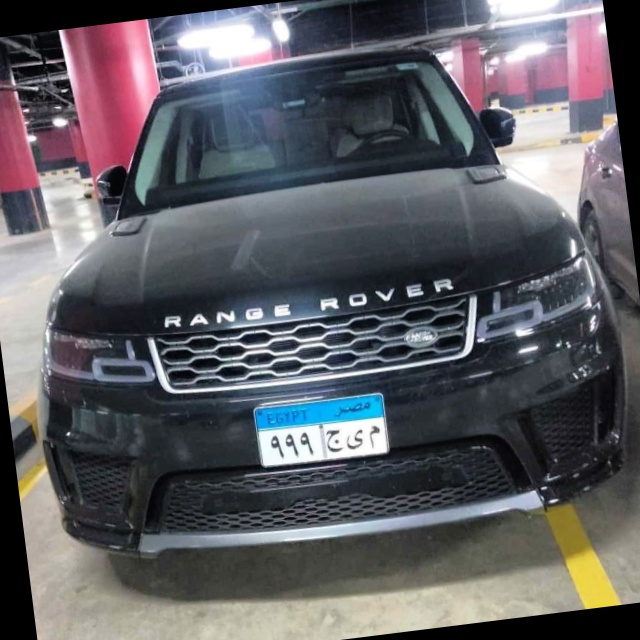License Plate: (250, 390, 394, 472)
